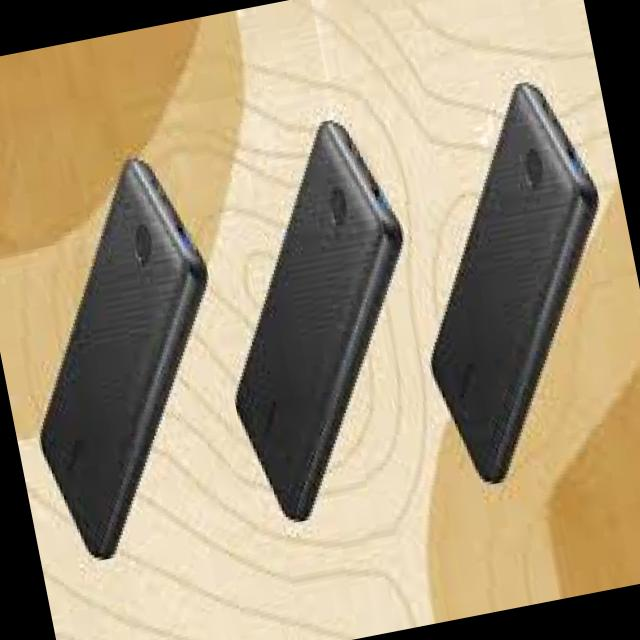power_bank: (185, 104, 460, 532), (375, 62, 640, 500), (0, 146, 265, 571)
